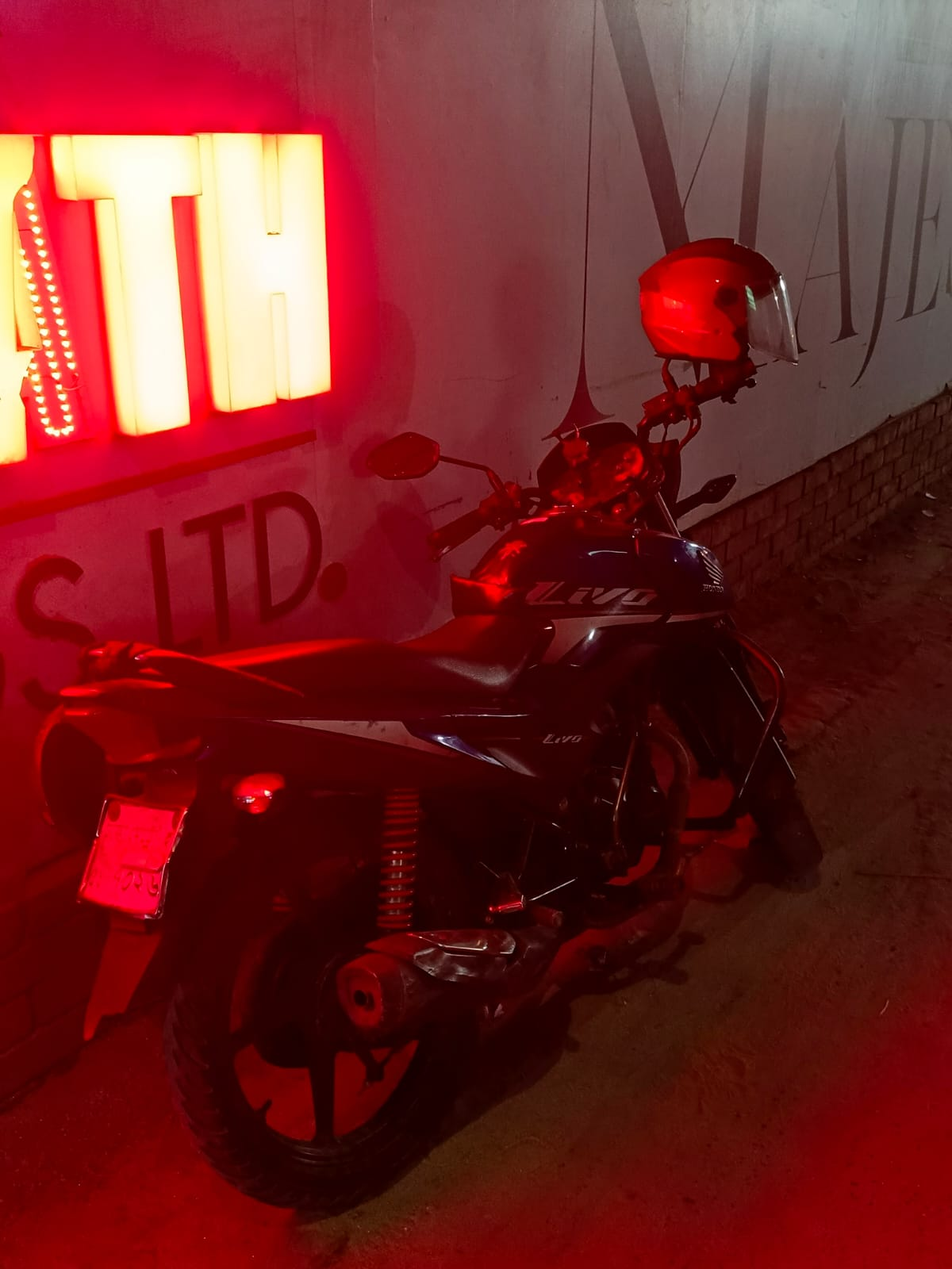Bikes: (24, 238, 897, 1191)
